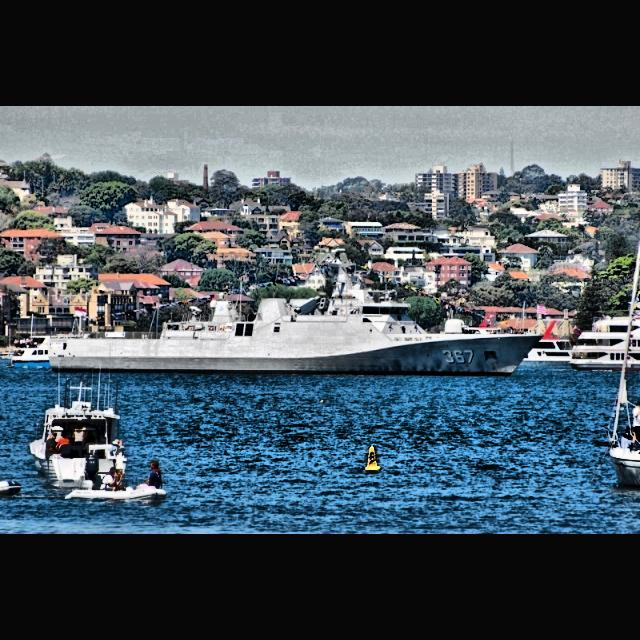combat_vessel: (46, 258, 546, 378)
